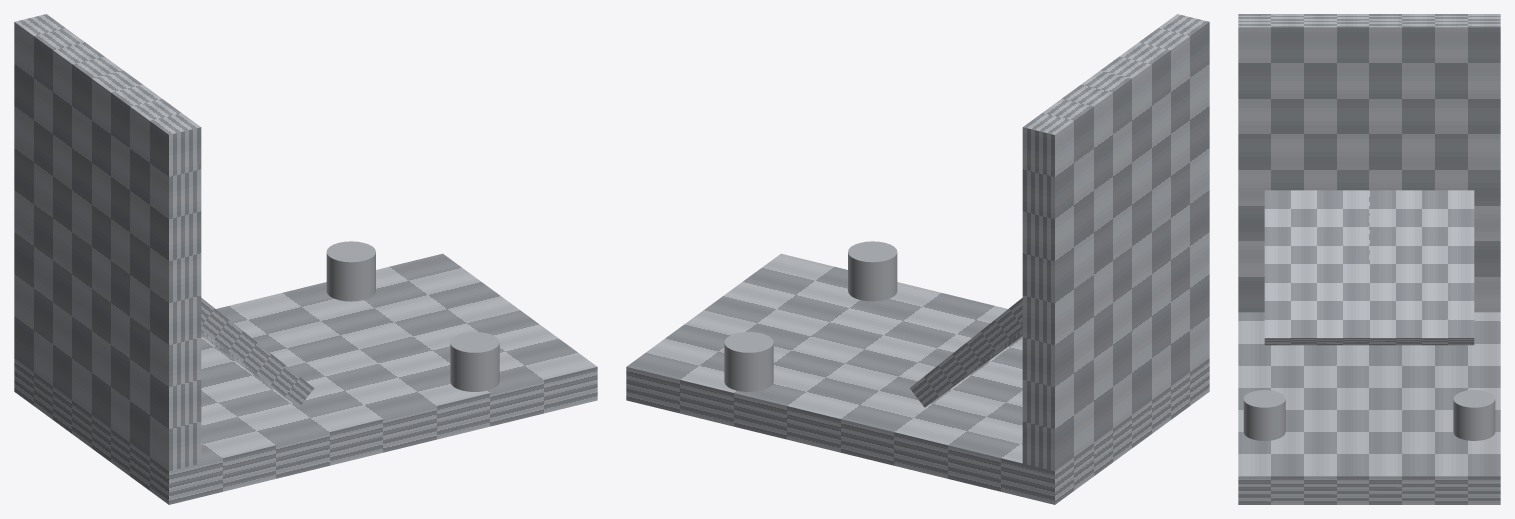
File: bracket.gltf
The picture shows the model from 3 angles, left to right: view 1: azimuth 30°, elevation 25°; view 2: azimuth 150°, elevation 25°; view 3: azimuth 270°, elevation 25°; orthographic projection. The views are drawn at different scales.
Visible parts, largest first — view 1: Upright, Base Plate, Gusset, Bolt 1, Bolt 2; view 2: Upright, Base Plate, Gusset, Bolt 2, Bolt 1; view 3: Upright, Base Plate, Gusset, Bolt 1, Bolt 2.
Part boxes in pixels (x1,y1,x2,y2): Upright: (14, 14, 201, 471); Base Plate: (14, 253, 597, 504); Gusset: (201, 298, 314, 407); Bolt 1: (326, 241, 375, 301); Bolt 2: (450, 332, 499, 391); Upright: (1022, 14, 1209, 471); Base Plate: (626, 253, 1209, 504); Gusset: (909, 298, 1022, 407); Bolt 2: (848, 241, 897, 301); Bolt 1: (724, 332, 773, 391); Upright: (1238, 14, 1500, 312); Base Plate: (1238, 312, 1500, 504); Gusset: (1264, 190, 1474, 345); Bolt 1: (1453, 390, 1495, 440); Bolt 2: (1243, 390, 1285, 440).
Bounding box in the file's own units: 0.08 × 0.066 × 0.05.
Materials: 2 (1 with a texture image).
